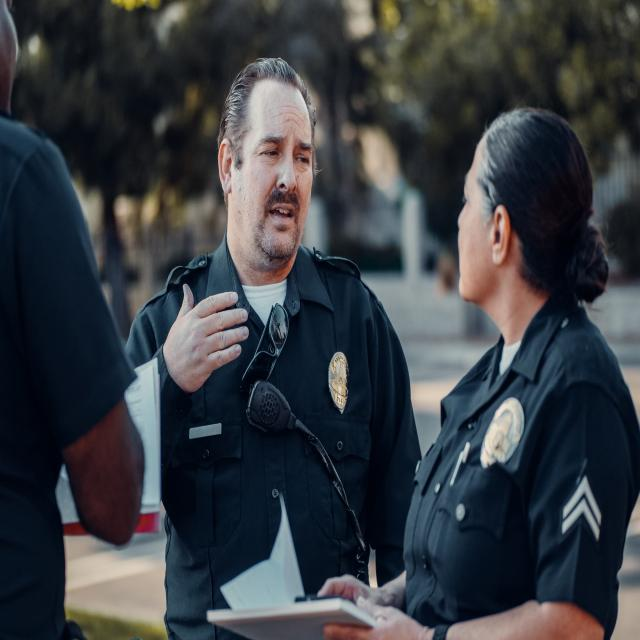police: (150, 20, 401, 613), (380, 91, 616, 640)
